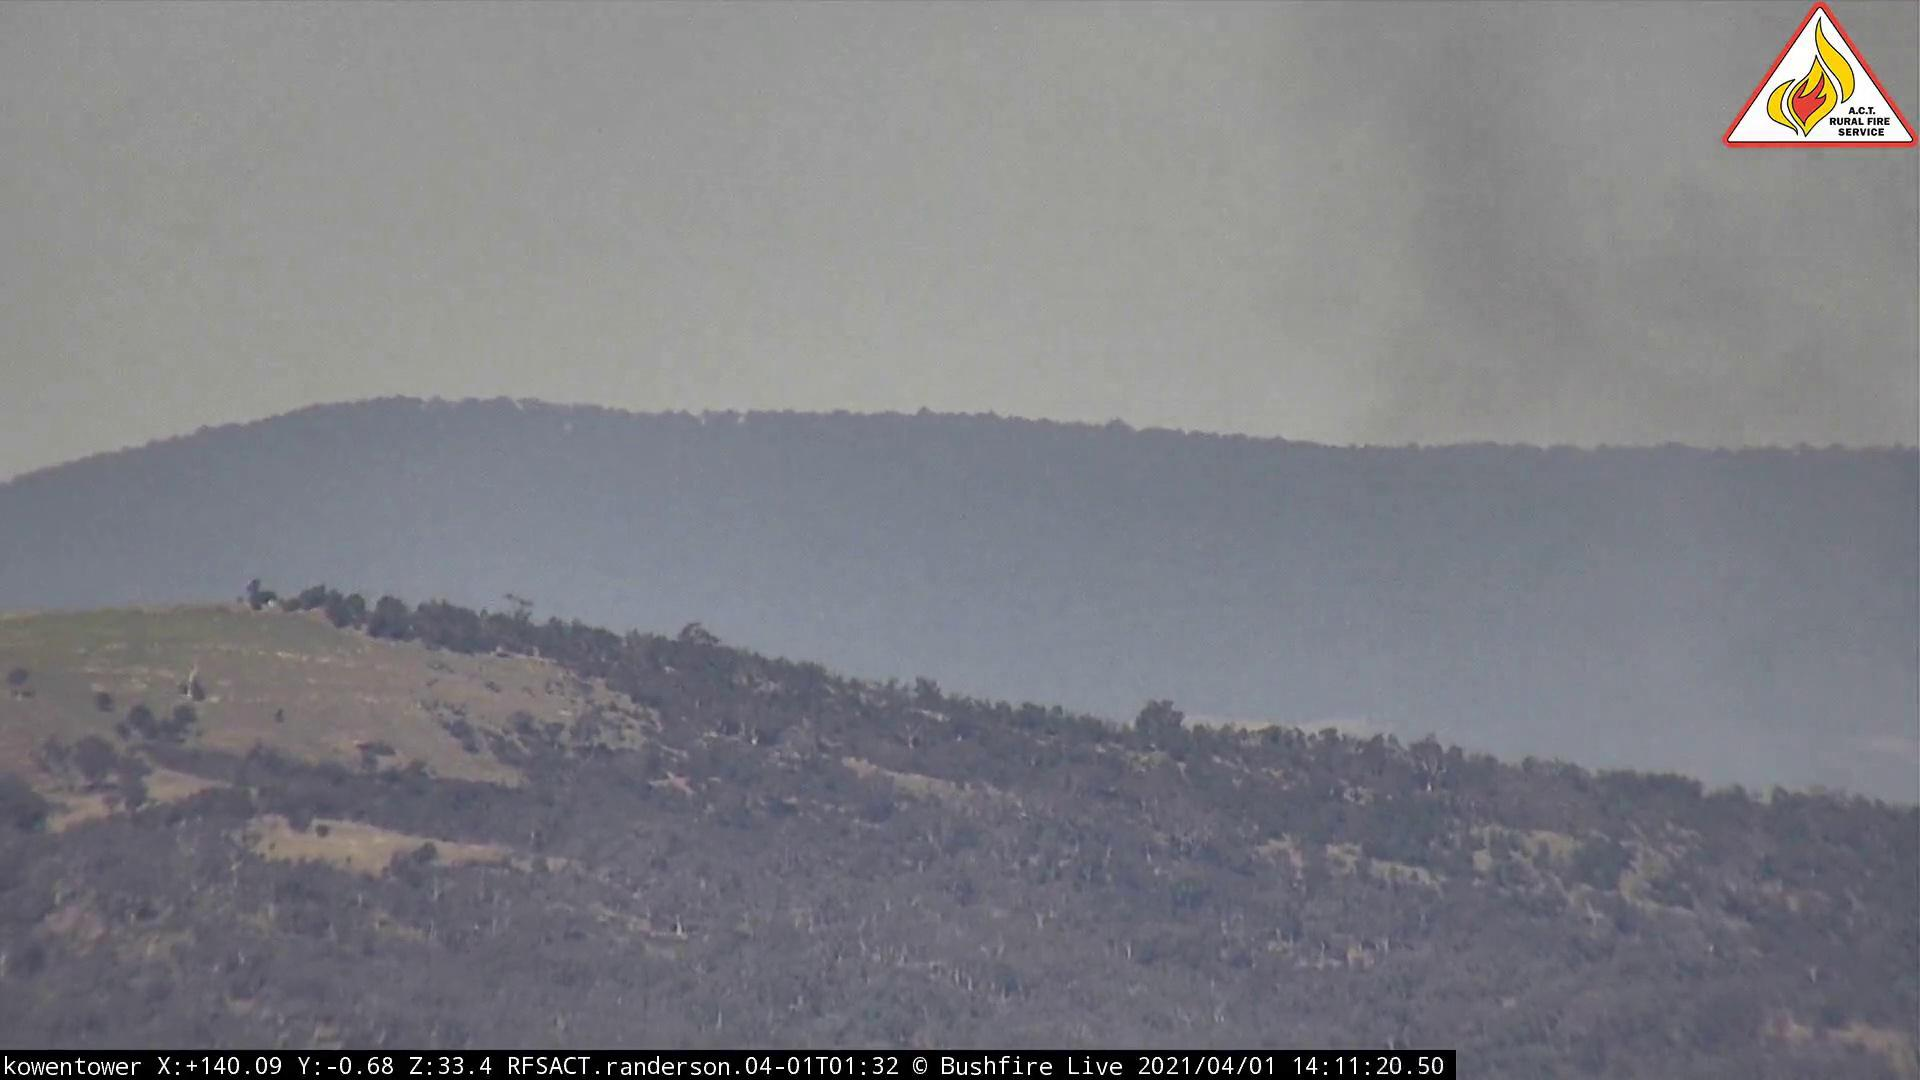Smoke: (1288, 162, 1920, 773)
